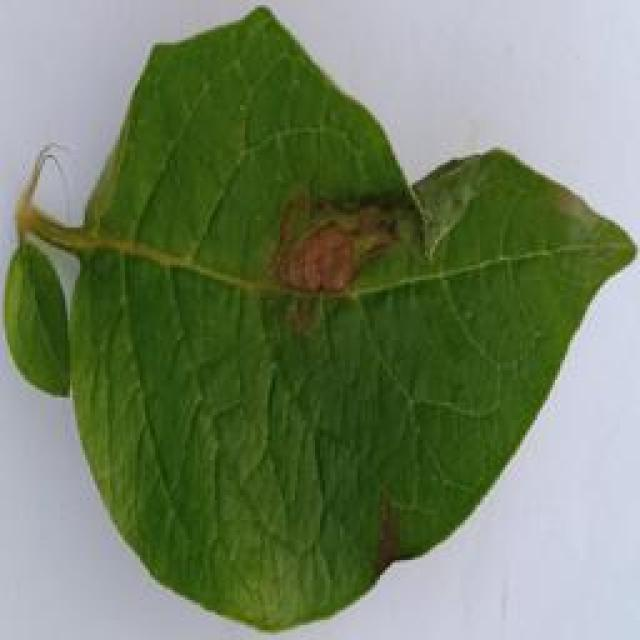Potato_Late_Blight: (9, 6, 631, 632)
